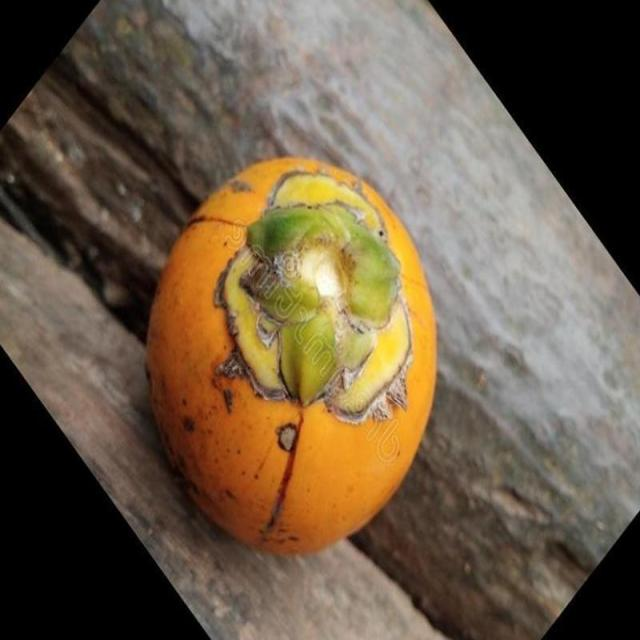good: (145, 158, 439, 558)
